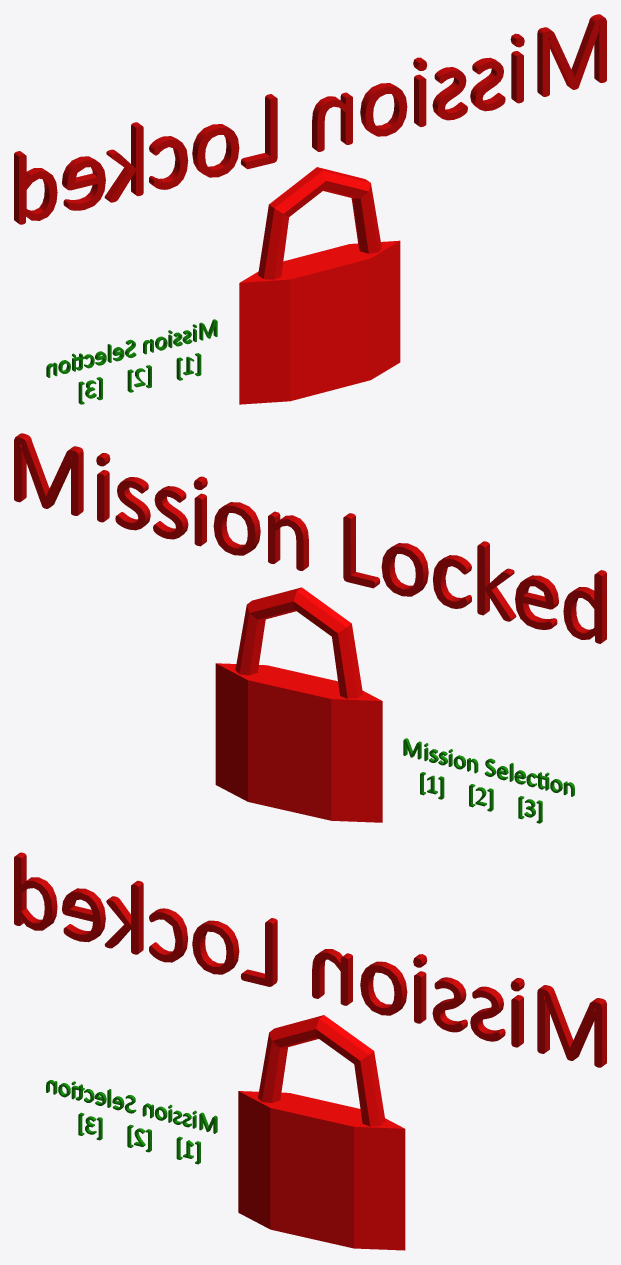
File: AST_missionLocked.fbx
The picture shows the model from 3 angles, top to bottom: view 1: azimuth 30°, elevation 25°; view 2: azimuth 150°, elevation 25°; view 3: azimuth 330°, elevation 25°; orthographic projection.
Parts seen in each view (by area): view 1: polySurface132; view 2: polySurface132; view 3: polySurface132.
Part boxes in pixels (<box>): polySurface132: <box>14,14,606,404</box>; polySurface132: <box>14,433,606,823</box>; polySurface132: <box>14,852,606,1250</box>.
Size of the model in its own units: 246 by 122 by 15.69.
